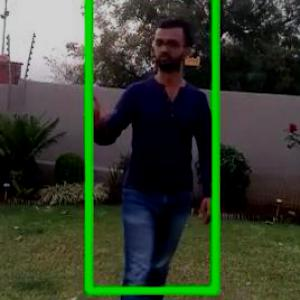land_hand: (77, 89, 110, 126)
